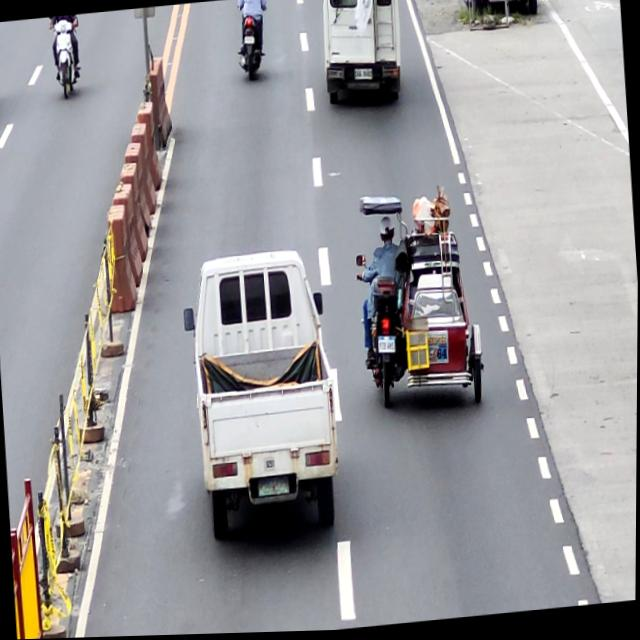Car: (317, 0, 405, 113)
License-Plate: (257, 476, 291, 497), (376, 337, 396, 357), (353, 70, 373, 83), (243, 36, 255, 46)
Motorcycle: (233, 0, 265, 80)
Tricycle: (350, 187, 488, 418)
Truck: (179, 244, 346, 548)
